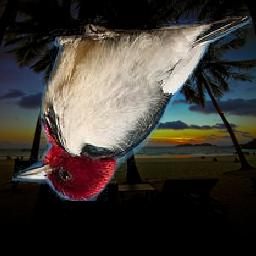Woodpecker: (12, 17, 252, 202)
